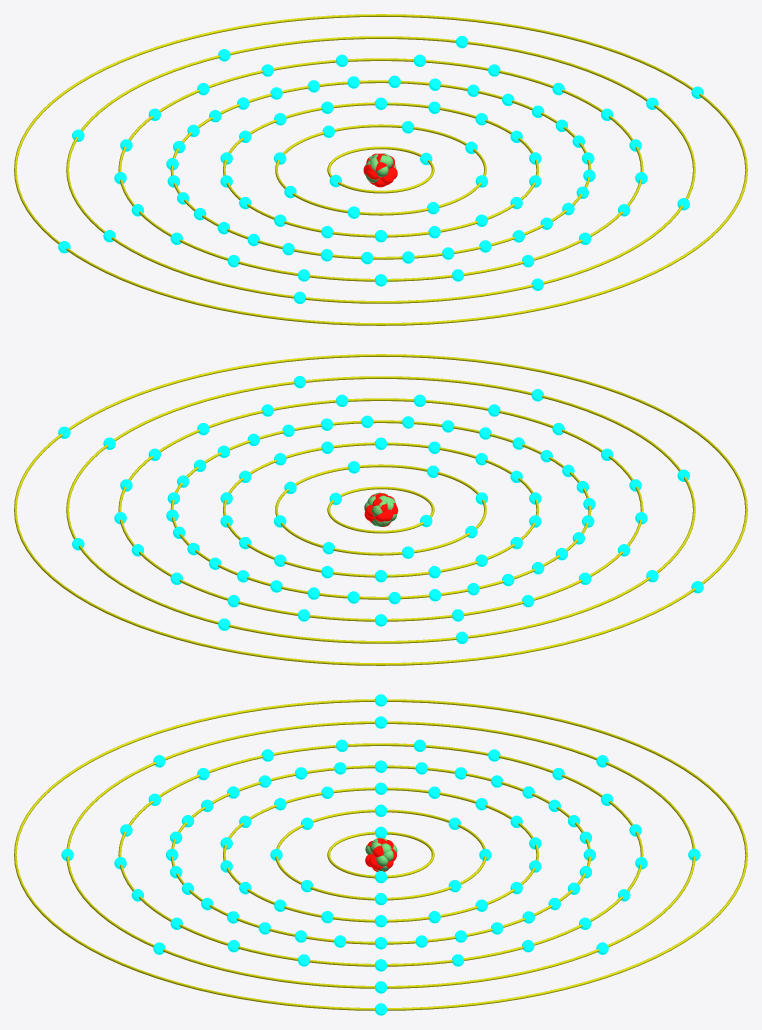
File: atomo_91.glb
3 views of the same model, one above another, from view 1: azimuth 30°, elevation 25°; view 2: azimuth 150°, elevation 25°; view 3: azimuth 270°, elevation 25° (orthographic).
Visible parts, largest first — view 1: orbital_7, orbital_6, orbital_5, orbital_4, orbital_3, orbital_2, orbital_1; view 2: orbital_7, orbital_6, orbital_5, orbital_4, orbital_3, orbital_2, orbital_1; view 3: orbital_7, orbital_6, orbital_5, orbital_4, orbital_3, orbital_2, orbital_1.
Part boxes in pixels (x1=…): orbital_7: x1=14, y1=14, x2=747, y2=325; orbital_6: x1=66, y1=36, x2=695, y2=303; orbital_5: x1=118, y1=58, x2=643, y2=281; orbital_4: x1=170, y1=80, x2=591, y2=259; orbital_3: x1=223, y1=102, x2=538, y2=237; orbital_2: x1=275, y1=124, x2=486, y2=215; orbital_1: x1=327, y1=146, x2=434, y2=193; orbital_7: x1=14, y1=354, x2=747, y2=665; orbital_6: x1=66, y1=376, x2=695, y2=643; orbital_5: x1=118, y1=398, x2=643, y2=621; orbital_4: x1=170, y1=420, x2=591, y2=599; orbital_3: x1=223, y1=442, x2=538, y2=577; orbital_2: x1=275, y1=464, x2=486, y2=555; orbital_1: x1=327, y1=486, x2=434, y2=533; orbital_7: x1=14, y1=699, x2=747, y2=1010; orbital_6: x1=66, y1=721, x2=695, y2=988; orbital_5: x1=118, y1=743, x2=643, y2=966; orbital_4: x1=171, y1=765, x2=590, y2=944; orbital_3: x1=223, y1=787, x2=538, y2=922; orbital_2: x1=275, y1=809, x2=486, y2=900; orbital_1: x1=327, y1=831, x2=434, y2=878.
Bounding box in the file's own units: 21.36 × 0.9998 × 21.08.
